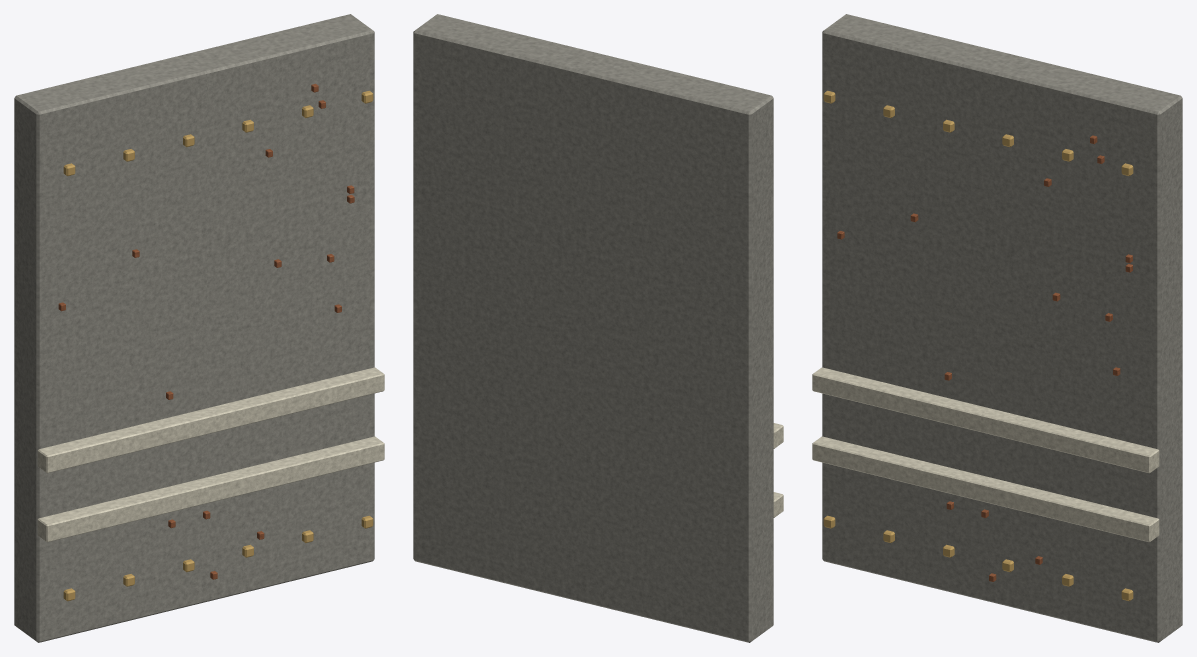
Rendered from TUNN32RC_lod0.glb.
The picture shows the model from 3 angles, left to right: view 1: azimuth 30°, elevation 25°; view 2: azimuth 150°, elevation 25°; view 3: azimuth 330°, elevation 25°; orthographic projection.
Parts seen in each view (by area): view 1: TUNN32RC_LOD0; view 2: TUNN32RC_LOD0; view 3: TUNN32RC_LOD0.
Part boxes in pixels (x1,y1,x2,y2): TUNN32RC_LOD0: [14, 14, 384, 642]; TUNN32RC_LOD0: [413, 14, 783, 642]; TUNN32RC_LOD0: [812, 14, 1182, 642].
Size of the model in its own units: 2 by 3 by 0.39.
Materials: 4 (3 with a texture image).
